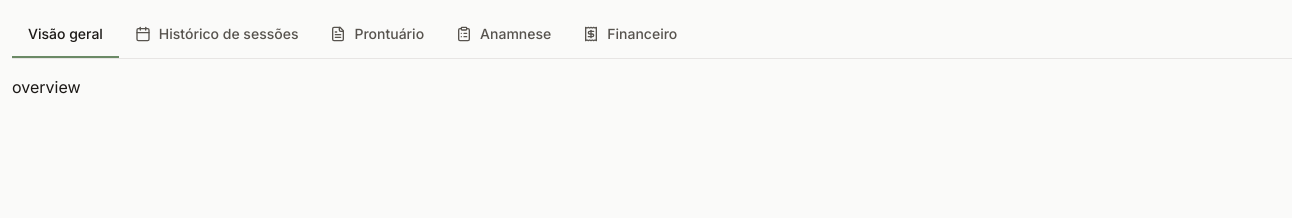
Test case: PatientTabs wired with PatientSessionHistory (task 9.3) › still shows the "Em breve" placeholder on the Financeiro tab
Click the tab with test id "patient-tab-financial" at (630, 35), box [567,12,693,58]
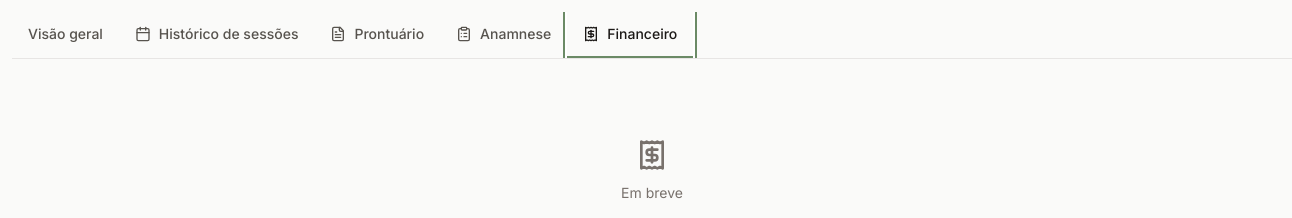
Now the panel with test id "patient-tab-content-financial" is shown, box [621,139,683,201]
Now the text with test id "patient-tab-placeholder-financial" reads "Em breve", box [621,184,683,201]
